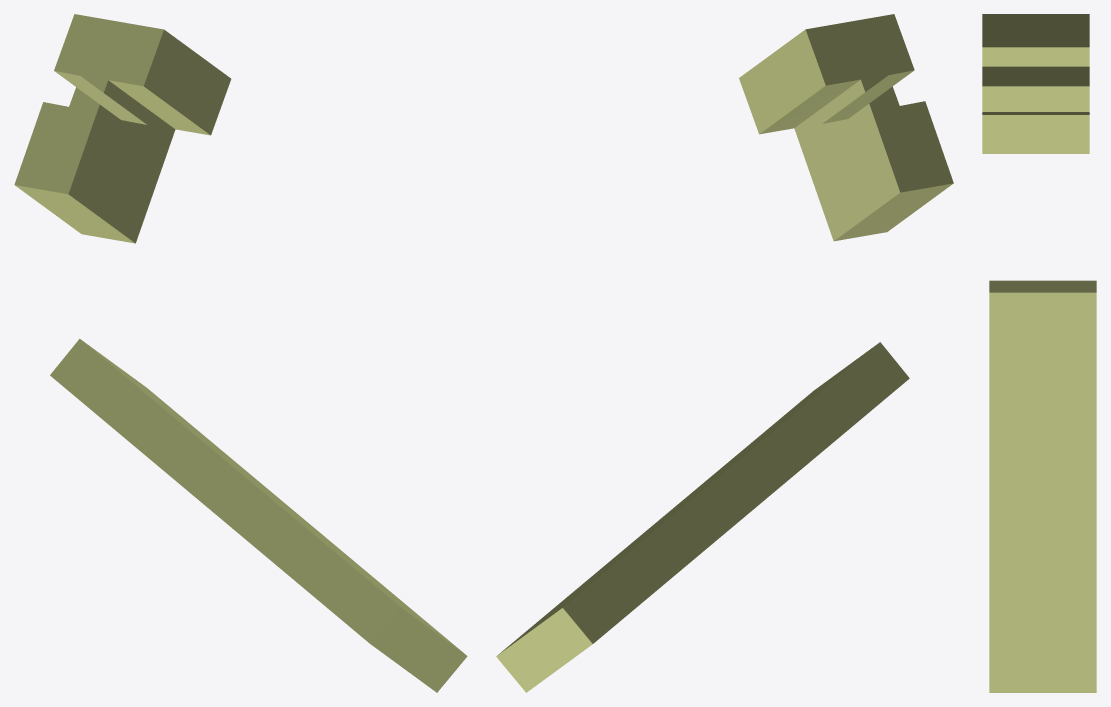
The picture shows the model from 3 angles, left to right: view 1: azimuth 30°, elevation 25°; view 2: azimuth 150°, elevation 25°; view 3: azimuth 270°, elevation 25°; orthographic projection. The views are drawn at different scales.
Visible parts, largest first — view 1: 0_0_1_3_1_1_2_0_2; view 2: 0_0_1_3_1_1_2_0_2; view 3: 0_0_1_3_1_1_2_0_2.
Part boxes in pixels (left/top/right/bottom): 0_0_1_3_1_1_2_0_2: left=14, top=14, right=467, bottom=692; 0_0_1_3_1_1_2_0_2: left=496, top=14, right=953, bottom=692; 0_0_1_3_1_1_2_0_2: left=982, top=14, right=1096, bottom=692.
Bounding box in the file's own units: 30.15 × 52.11 × 9.6.
